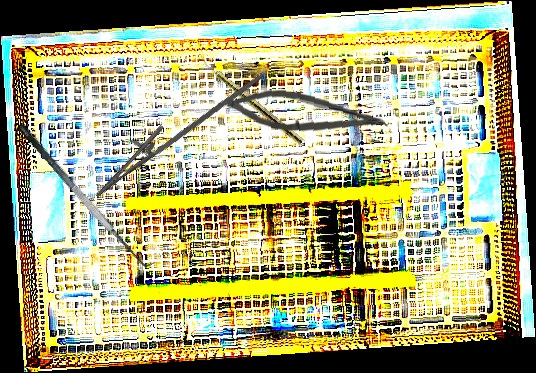Handpiece: (195, 54, 306, 146)
Micro Scissor: (223, 85, 391, 138)
Needle Holder: (83, 42, 266, 217)
Spatula Surgical: (15, 112, 159, 276)
